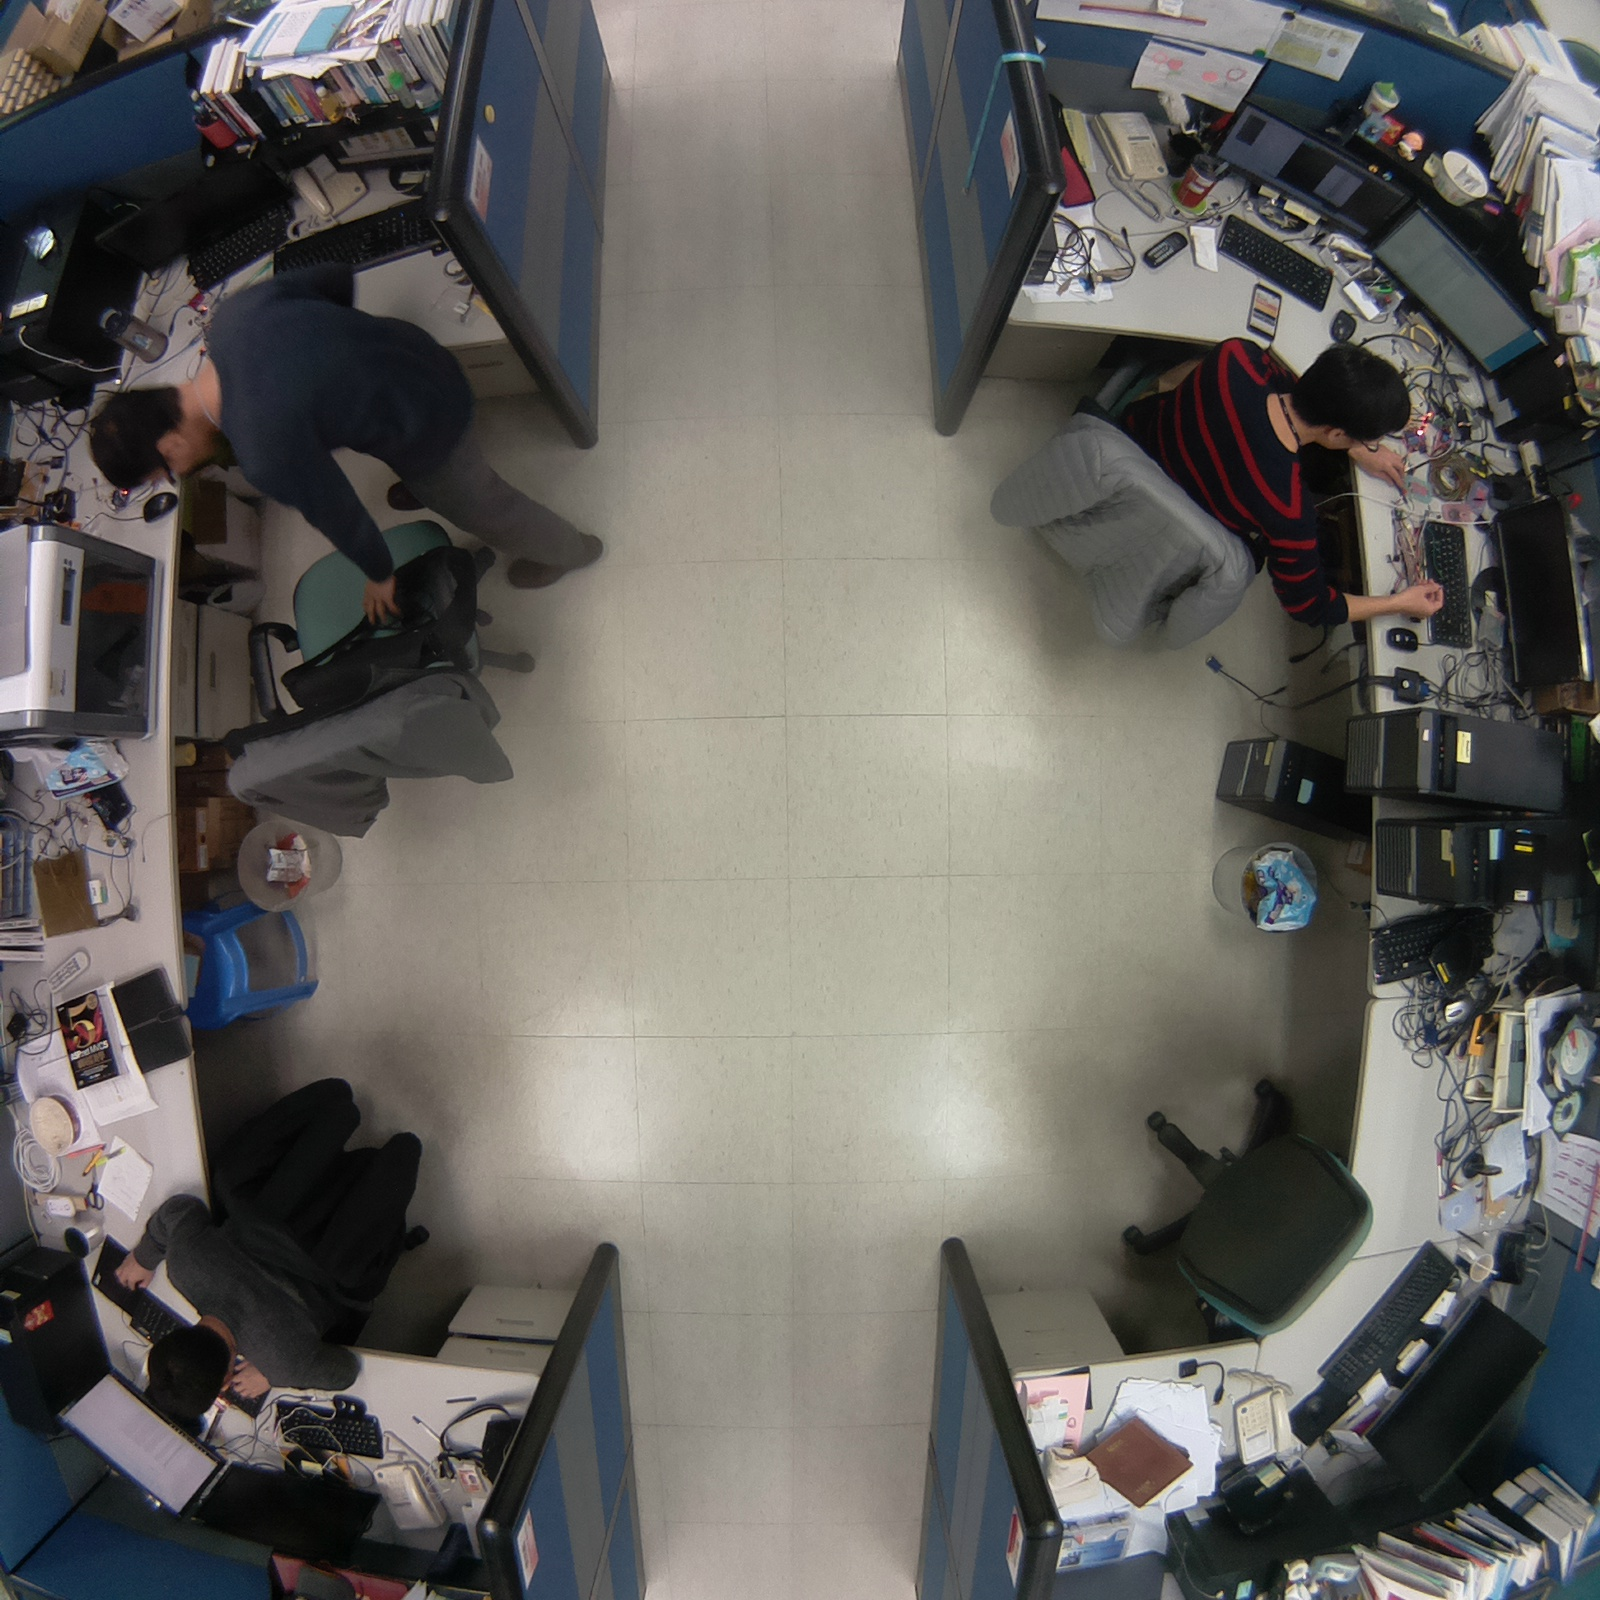chair: (219, 509, 573, 845), (1088, 1050, 1386, 1355)
head: (76, 372, 208, 504), (1293, 334, 1417, 465), (136, 1319, 232, 1429)
sitting: (981, 331, 1421, 673), (99, 1063, 453, 1414)
standing: (79, 272, 619, 600)
